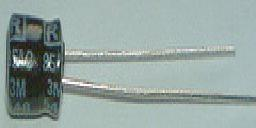Electrolytic-capacitor: (5, 11, 256, 124)
